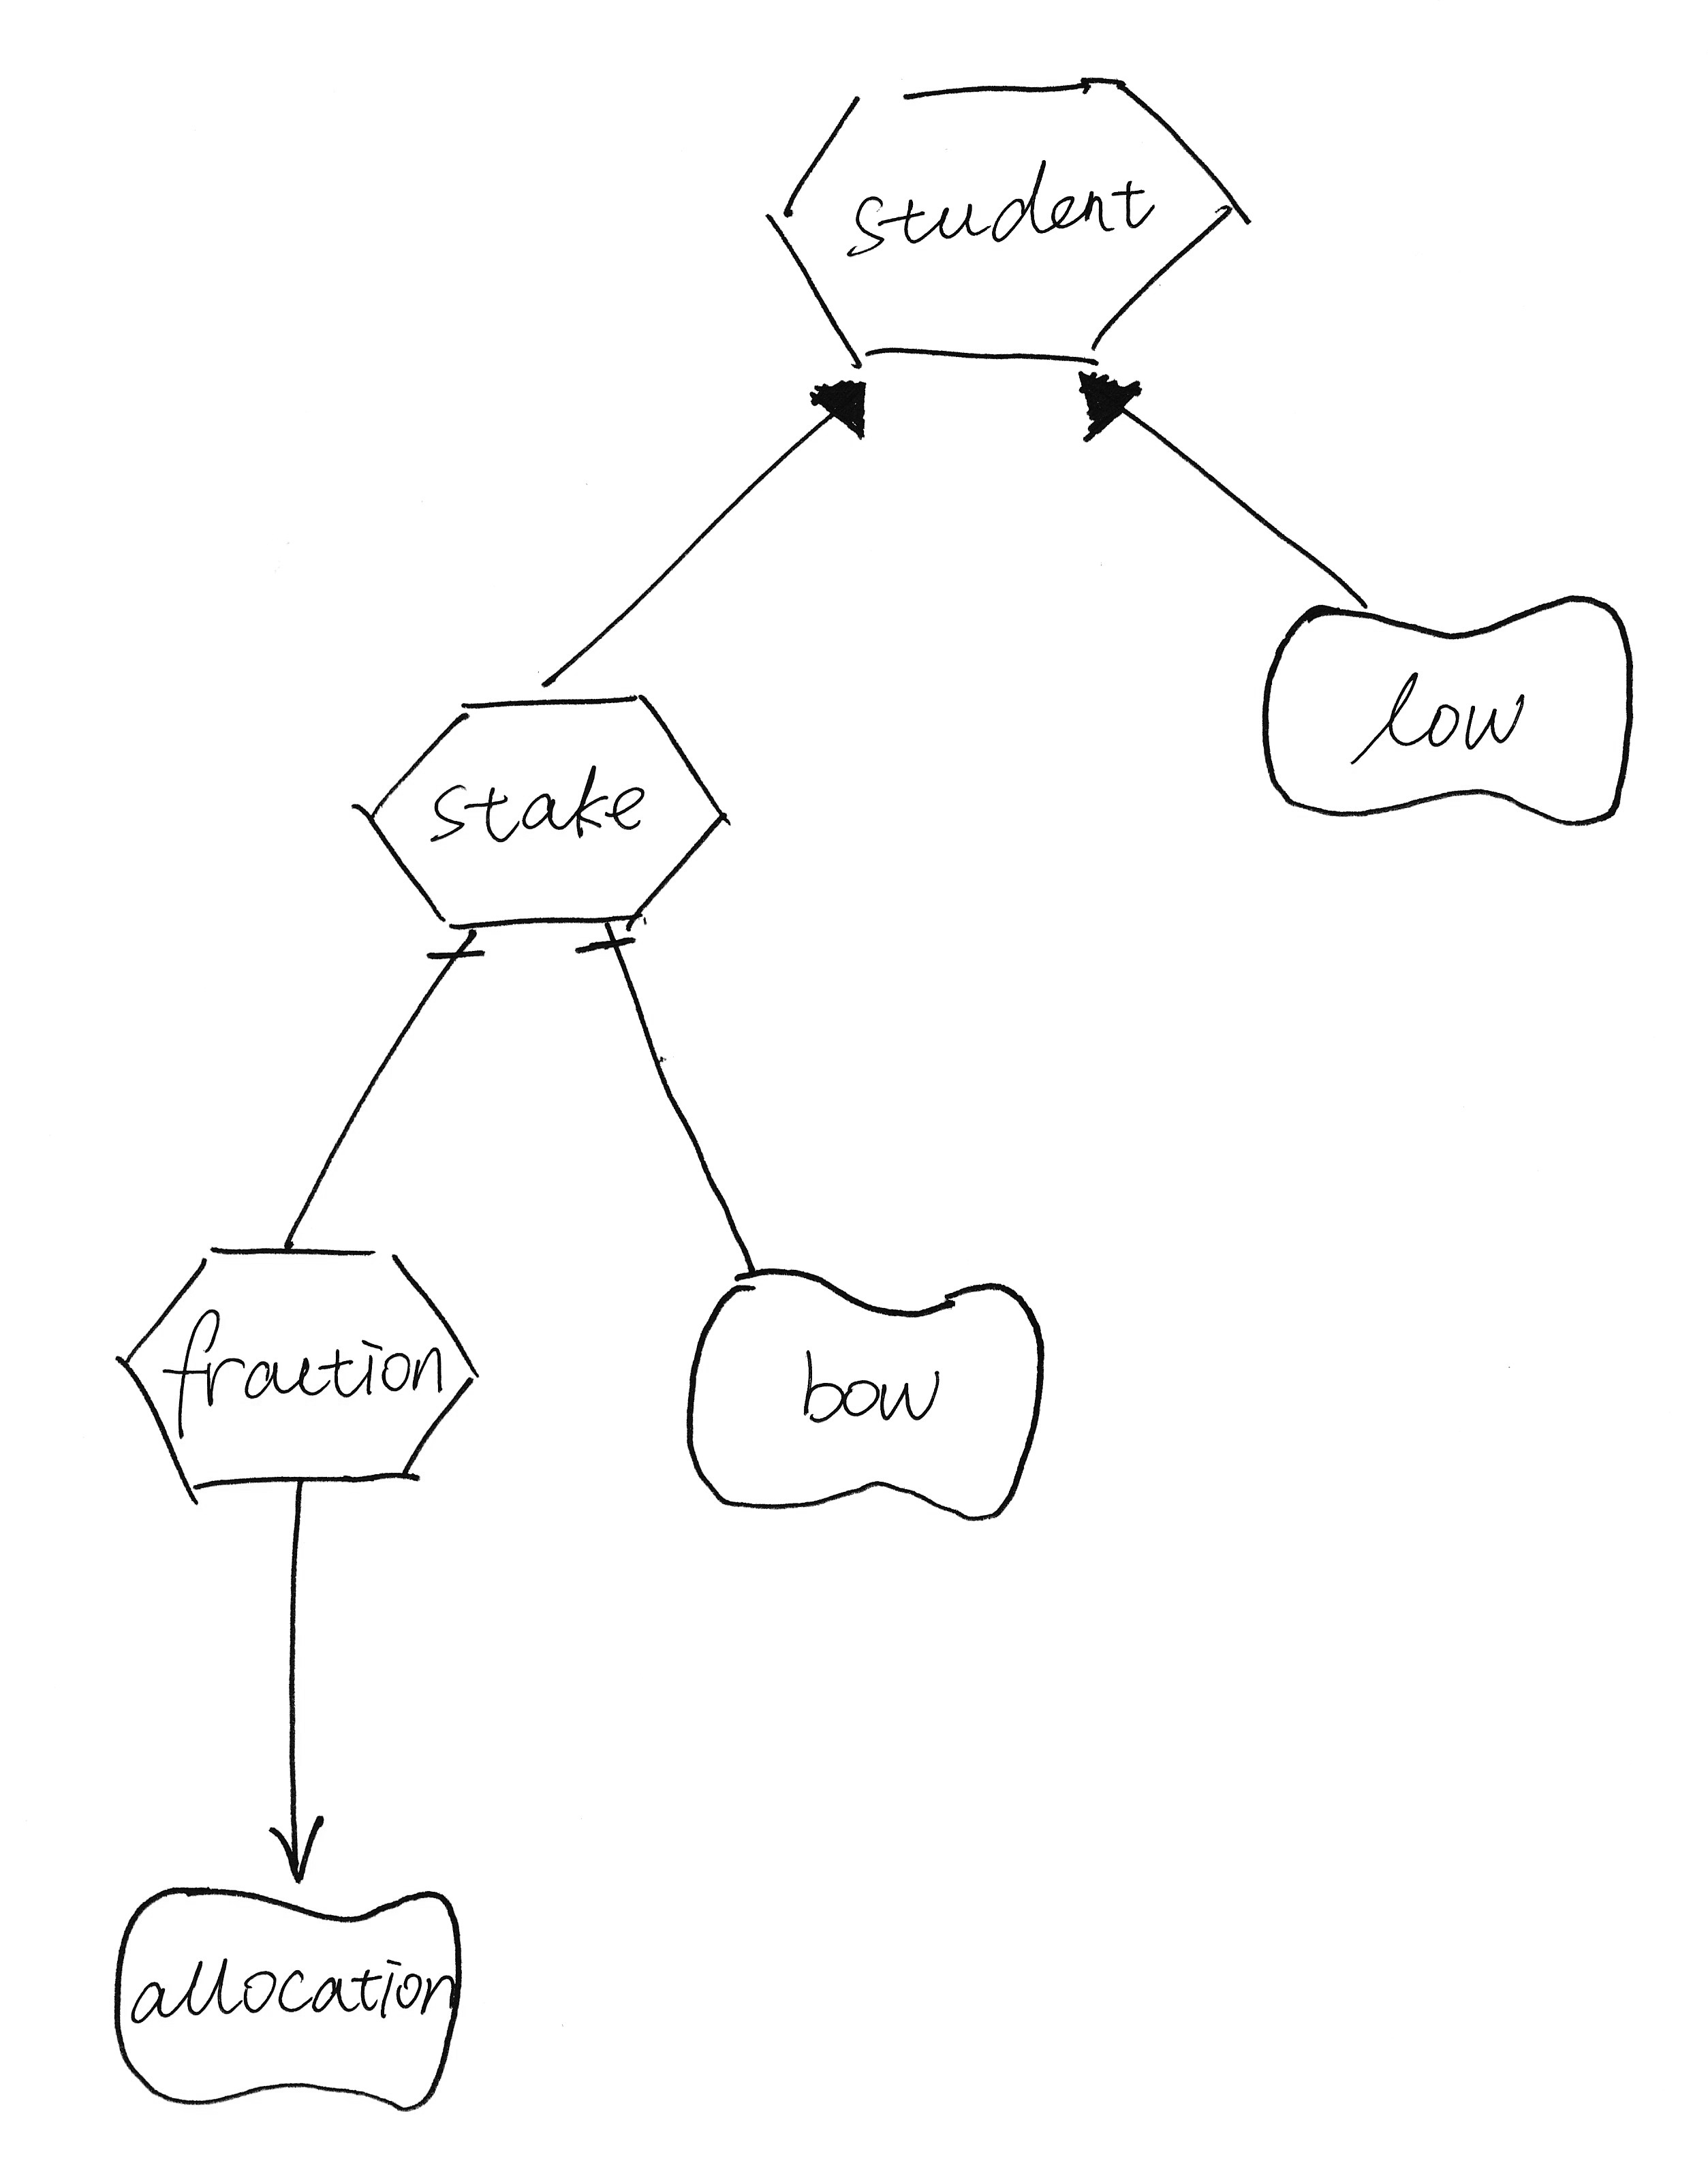and: (402, 927, 499, 991), (566, 925, 658, 984)
arrow: (250, 1796, 349, 1900)
or: (800, 359, 885, 449)
quality: (657, 1240, 1069, 1538), (1243, 577, 1657, 862), (96, 1863, 489, 2136), (1055, 356, 1159, 455)
task: (749, 50, 1273, 391), (96, 1212, 513, 1508), (329, 667, 749, 941)
